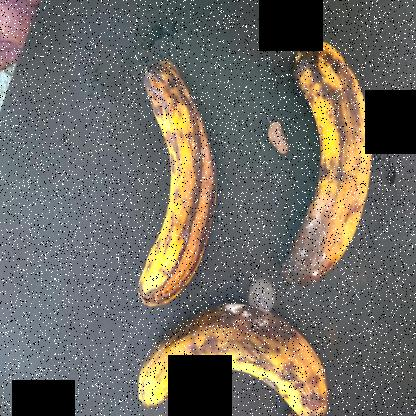rotten: (274, 31, 380, 306), (135, 28, 231, 314), (129, 303, 336, 416)
